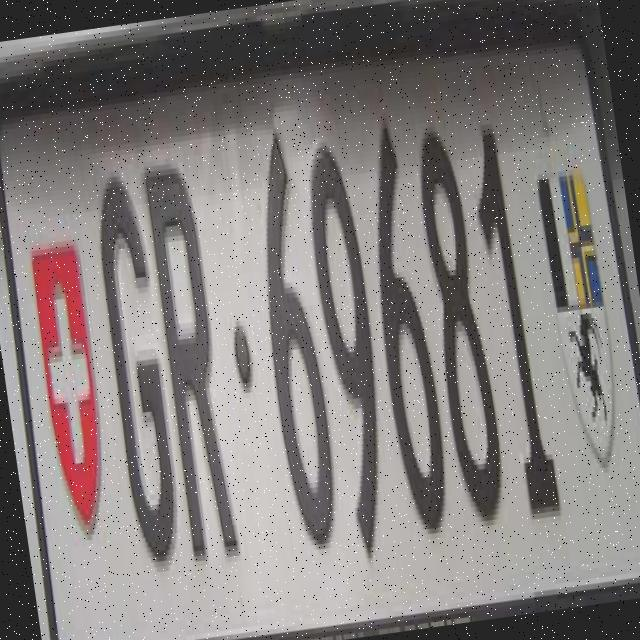Autre: (0, 25, 640, 640)
